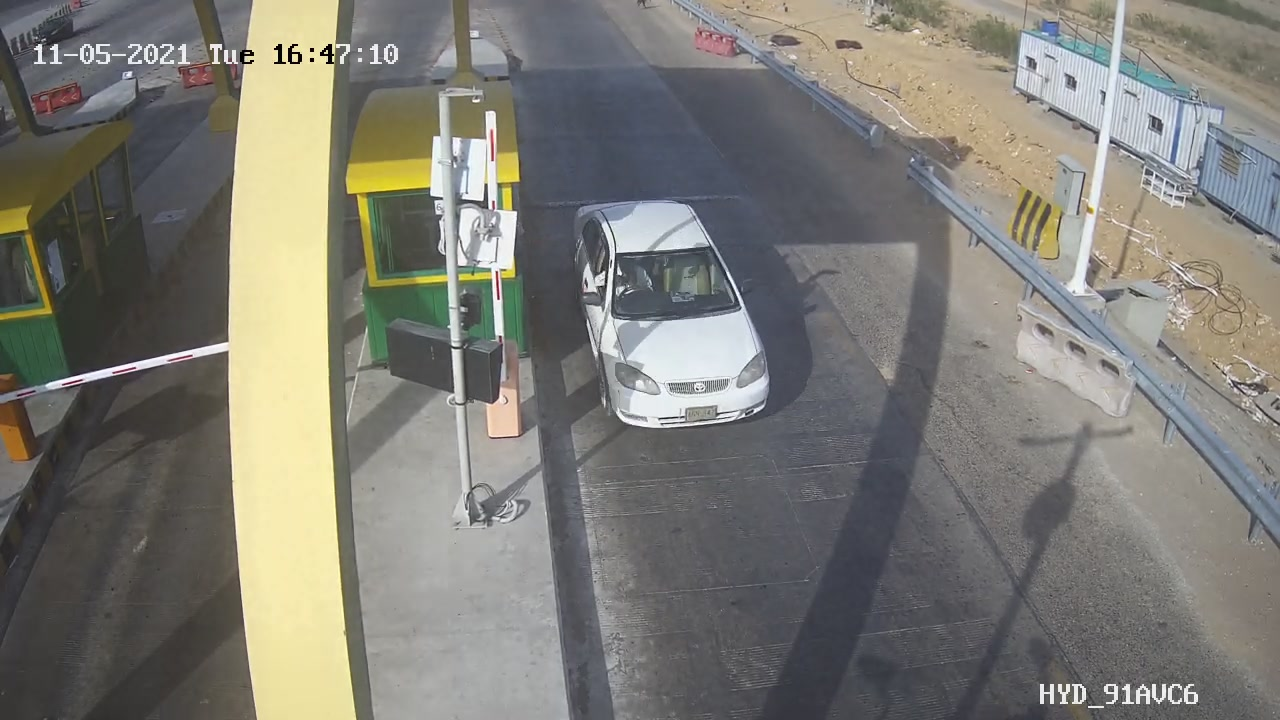F1: (551, 187, 800, 452)
